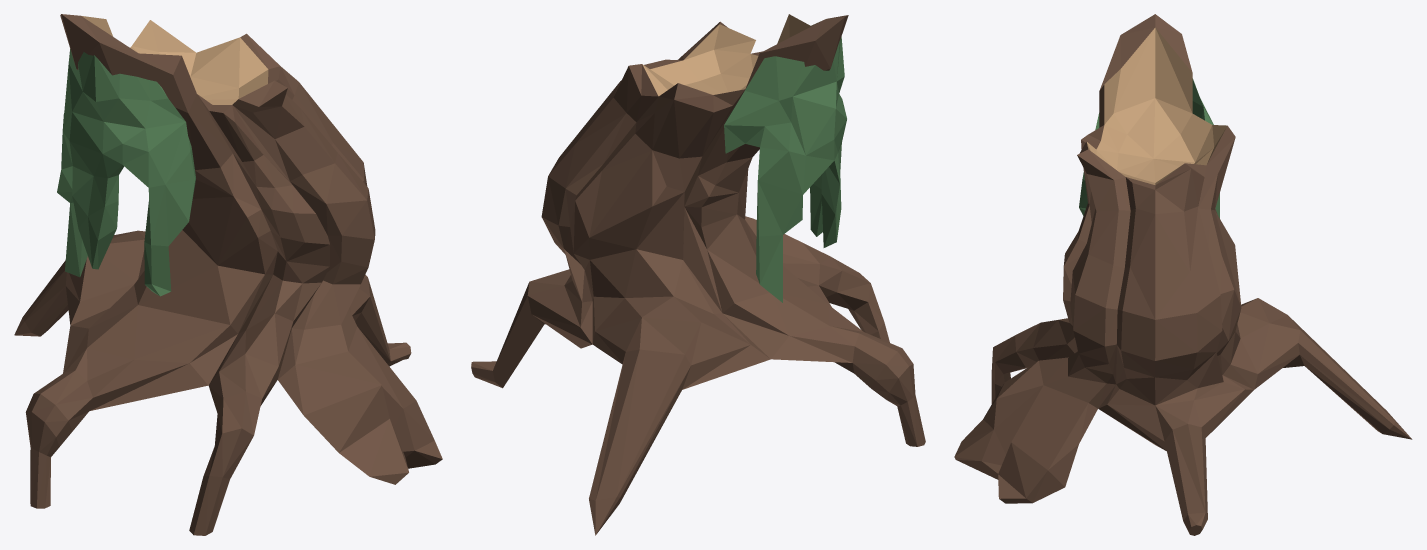
Rendered from _stump_4.fbx.
The picture shows the model from 3 angles, left to right: view 1: azimuth 30°, elevation 25°; view 2: azimuth 150°, elevation 25°; view 3: azimuth 270°, elevation 25°; orthographic projection. The views are drawn at different scales.
Parts seen in each view (by area): view 1: stump_4; view 2: stump_4; view 3: stump_4.
Part boxes in pixels (x1,y1,x2,y2): stump_4: (14, 14, 442, 535); stump_4: (471, 14, 925, 535); stump_4: (954, 14, 1412, 535).
Size of the model in its own units: 135 by 139 by 151.
